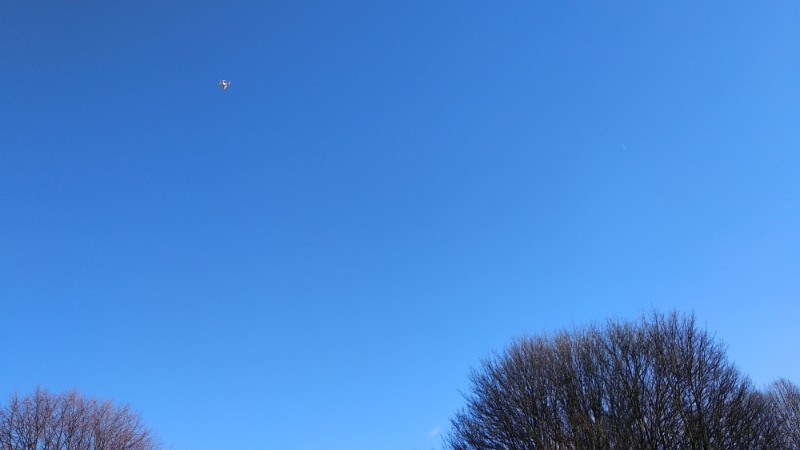drone: (217, 76, 232, 91)
